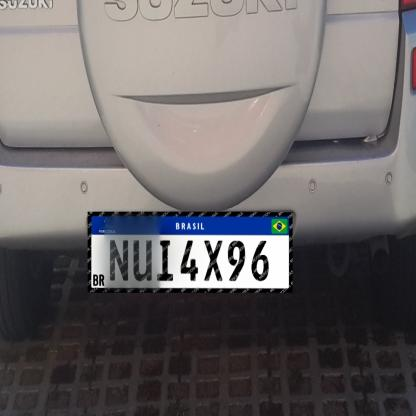PlacaM: (87, 211, 292, 292)
